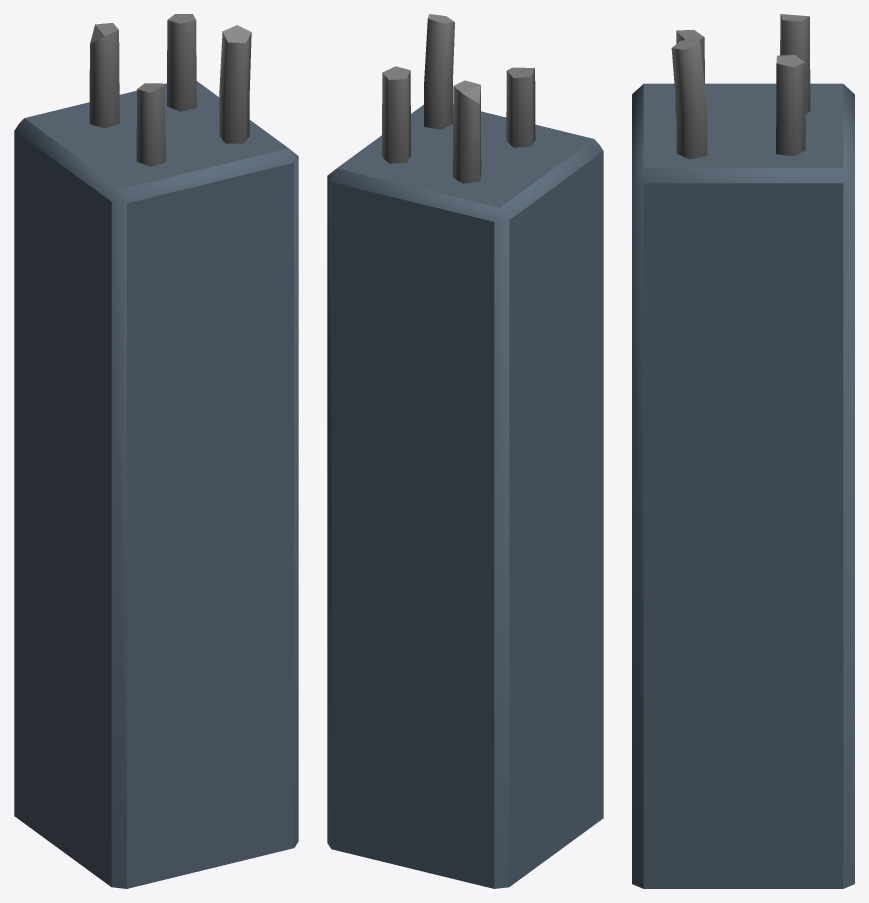
File: Pilar_C_2.obj
3 renders of one model, left to right at view 1: azimuth 30°, elevation 25°; view 2: azimuth 150°, elevation 25°; view 3: azimuth 270°, elevation 25°, orthographic. The views are drawn at different scales.
Visible parts, largest first — view 1: Pilar_C_2; view 2: Pilar_C_2; view 3: Pilar_C_2.
Part boxes in pixels (x1,y1,x2,y2): Pilar_C_2: (14, 14, 298, 888); Pilar_C_2: (327, 14, 603, 888); Pilar_C_2: (632, 14, 854, 888).
Size of the model in its own units: 0.5496 by 2.26 by 0.551.
